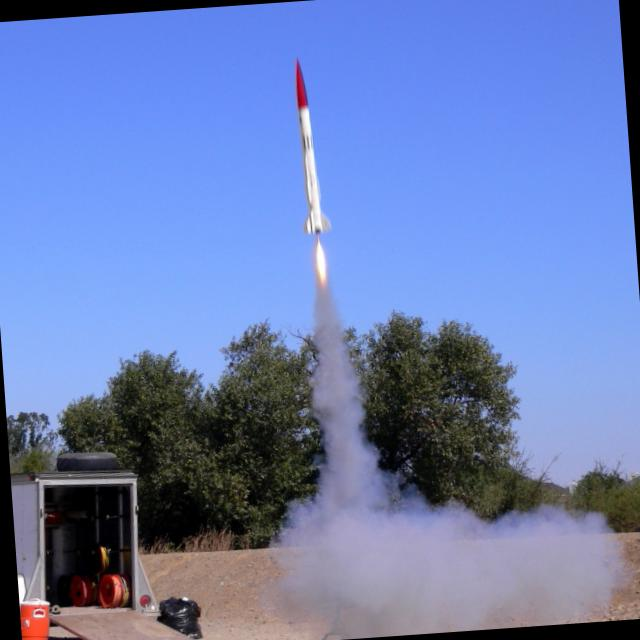rocket: (279, 53, 341, 330)
